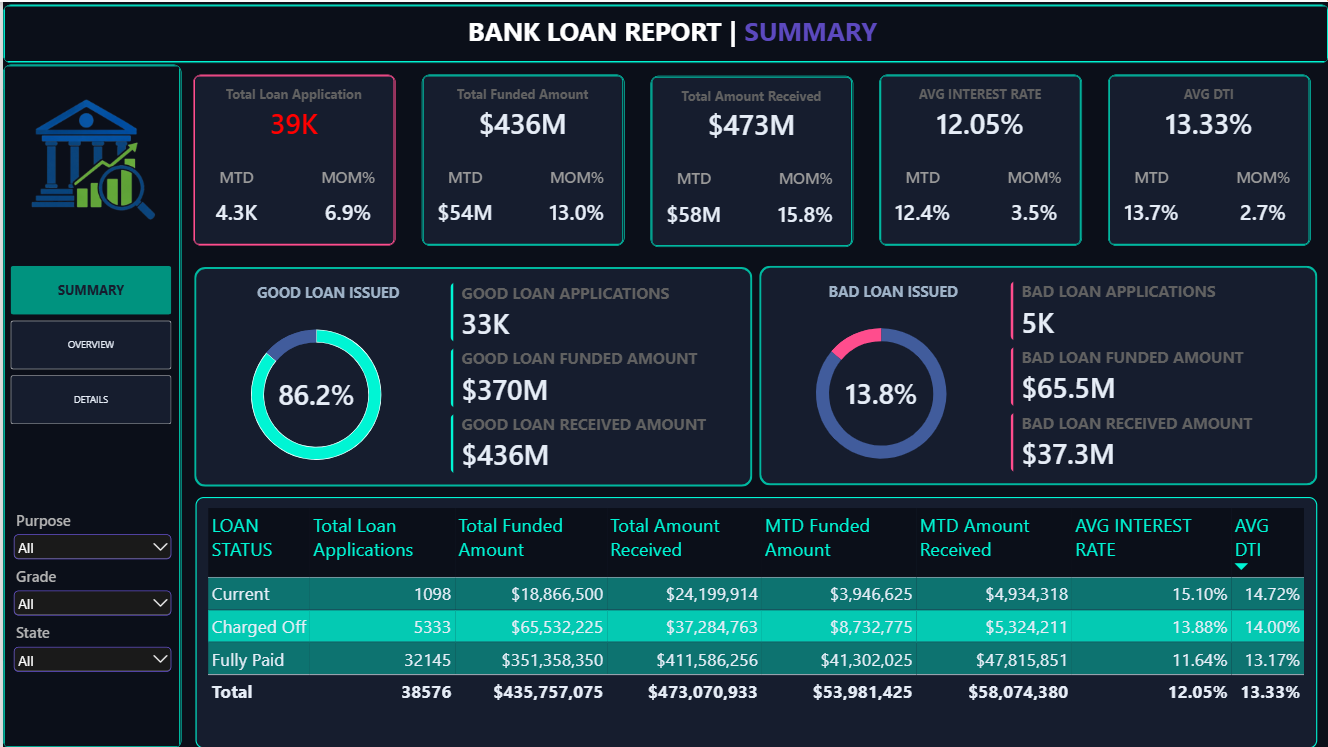

Layout of this report page (visuals, bound fields, positions):
{"tool":"powerbi","page":{"name":"SUMMARY","canvas":[1920,1080],"ordinal":0},"visuals":[{"type":"group","id":"g1","title":"Group 4","box":[0,90,258,990],"z":0},{"type":"shape","box":[0,90,258,990],"z":0,"group":"g1"},{"type":"shape","box":[0,4,1920,85],"z":1000},{"type":"textbox","box":[673.3,16.7,623.3,51.7],"z":2000},{"type":"group","id":"g2","title":"Group 1","box":[275,105,293.3,248.3],"z":3000},{"type":"shape","box":[275,105,293.3,248.3],"z":3000,"group":"g2"},{"type":"shape","box":[606.2,105,293.3,248.3],"z":3000,"group":"g3"},{"type":"shape","box":[1268.8,105,293.3,248.3],"z":3000,"group":"g5"},{"type":"shape","box":[1600,105,293.3,248.3],"z":3000,"group":"g6"},{"type":"shape","box":[937.5,106.7,293.3,248.3],"z":3000,"group":"g4"},{"type":"group","id":"g3","title":"Group 1","box":[606.2,105,293.3,248.3],"z":4000},{"type":"group","id":"g4","title":"Group 1","box":[937.5,106.7,293.3,248.3],"z":5000},{"type":"cardVisual","fields":{"Data":["financial_loan_table.TOTAL LOAN APPLICATION"]},"box":[280,118.3,281.7,88.3],"z":5000,"group":"g2"},{"type":"cardVisual","fields":{"Data":["financial_loan_table.Total Funded Amount"]},"box":[611.2,118.3,281.7,88.3],"z":5000,"group":"g3"},{"type":"cardVisual","fields":{"Data":["financial_loan_table.AVG INT RATE"]},"box":[1273.8,118.3,281.7,88.3],"z":5000,"group":"g5"},{"type":"cardVisual","fields":{"Data":["financial_loan_table.AVG DTI"]},"box":[1605,118.3,281.7,88.3],"z":5000,"group":"g6"},{"type":"cardVisual","fields":{"Data":["financial_loan_table.Total Amount Received"]},"box":[942.5,120,281.7,88.3],"z":5000,"group":"g4"},{"type":"group","id":"g5","title":"Group 1","box":[1268.8,105,293.3,248.3],"z":6000},{"type":"cardVisual","title":"MTD","fields":{"Data":["financial_loan_table.MTD LOAN APPLICATIONS"]},"box":[280,230,115,95],"z":6000,"group":"g2"},{"type":"cardVisual","title":"MTD","fields":{"Data":["financial_loan_table.MTD Funded Amount"]},"box":[611.2,230,115,95],"z":6000,"group":"g3"},{"type":"cardVisual","title":"MTD","fields":{"Data":["financial_loan_table.MTD AVG INT RATE"]},"box":[1273.8,230,115,95],"z":6000,"group":"g5"},{"type":"cardVisual","title":"MTD","fields":{"Data":["financial_loan_table.MTD AVG DTI"]},"box":[1605,230,115,95],"z":6000,"group":"g6"},{"type":"cardVisual","title":"MTD","fields":{"Data":["financial_loan_table.MTD Payment"]},"box":[942.5,231.7,115,95],"z":6000,"group":"g4"},{"type":"group","id":"g6","title":"Group 1","box":[1600,105,293.3,248.3],"z":7000},{"type":"cardVisual","title":"MOM%","fields":{"Data":["financial_loan_table.MoM Loan Applications"]},"box":[438.3,230,123.3,95],"z":7000,"group":"g2"},{"type":"cardVisual","title":"MOM%","fields":{"Data":["financial_loan_table.MoM Funded Amount"]},"box":[769.5,230,123.3,95],"z":7000,"group":"g3"},{"type":"cardVisual","title":"MOM%","fields":{"Data":["financial_loan_table.MoM AVG INT RATE"]},"box":[1432.1,230,123.3,95],"z":7000,"group":"g5"},{"type":"cardVisual","title":"MOM%","fields":{"Data":["financial_loan_table.MoM AVG DTI"]},"box":[1763.3,230,123.3,95],"z":7000,"group":"g6"},{"type":"cardVisual","title":"MOM%","fields":{"Data":["financial_loan_table.MoM Payment"]},"box":[1100.8,231.7,123.3,95],"z":7000,"group":"g4"},{"type":"shape","box":[1094,382,808,318],"z":8000,"group":"g8"},{"type":"group","id":"g7","title":"Group 2","box":[276,384,808,318],"z":8000},{"type":"shape","box":[276,384,808,318],"z":8000,"group":"g7"},{"type":"group","id":"g8","title":"Group 2","box":[1094,382,808,318],"z":9000},{"type":"cardVisual","fields":{"Data":["financial_loan_table.GOOD LOAN APPLICATIONS","financial_loan_table.GOOD LOAN FUNDED AMOUNT","financial_loan_table.GOOD LOAN RECEIVED AMOUNT"]},"box":[648,406,436,278],"z":10000},{"type":"donutChart","fields":{"Category":["financial_loan_table.GOOD vs BAD LOAN"],"Y":["financial_loan_table.TOTAL LOAN APPLICATION"]},"box":[1118,434,306,266],"z":10000,"group":"g8"},{"type":"donutChart","fields":{"Category":["financial_loan_table.GOOD vs BAD LOAN"],"Y":["financial_loan_table.TOTAL LOAN APPLICATION"]},"box":[300,436,306,266],"z":10000,"group":"g7"},{"type":"cardVisual","fields":{"Data":["financial_loan_table.BAD LOAN APPLICATIONS","financial_loan_table.BAD LOAN FUNDED AMOUNT","financial_loan_table.BAD LOAN RECEIVED AMOUNT"]},"box":[1458,404,436,278],"z":11000},{"type":"textbox","box":[1170,404,236,44],"z":12000,"group":"g8"},{"type":"textbox","box":[352,406,236,44],"z":12000,"group":"g7"},{"type":"tableEx","fields":{"Values":["financial_loan_table.loan_status","financial_loan_table.TOTAL LOAN APPLICATION","financial_loan_table.Total Funded Amount","financial_loan_table.Total Amount Received","financial_loan_table.MTD Funded Amount","financial_loan_table.MTD Payment","financial_loan_table.AVG INTEREST RATE","financial_loan_table.AVG DTI"]},"box":[278,716,1624,364],"z":12000},{"type":"slicer","fields":{"Values":["financial_loan_table.purpose"]},"box":[10,734,238,82],"z":13000},{"type":"slicer","fields":{"Values":["financial_loan_table.address_state"]},"box":[10,898,238,82],"z":14000},{"type":"slicer","fields":{"Values":["financial_loan_table.grade"]},"box":[10,816,238,82],"z":15000},{"type":"image","box":[16.3,112.2,222.6,233.4],"z":15001},{"type":"pageNavigator","box":[10.9,381.8,233.4,229.8],"z":15002}]}

Visuals, with their boxes in screenshot pixels (x1, y1, x2, y2), scaled from the page's 1920x1080 canvas onto the 1328x747 screenshot:
"Group 4" group: (x1=0, y1=62, x2=178, y2=746)
shape: (x1=0, y1=62, x2=178, y2=746)
shape: (x1=0, y1=3, x2=1327, y2=62)
textbox: (x1=466, y1=12, x2=897, y2=47)
"Group 1" group: (x1=190, y1=73, x2=393, y2=244)
shape: (x1=190, y1=73, x2=393, y2=244)
shape: (x1=419, y1=73, x2=622, y2=244)
shape: (x1=878, y1=73, x2=1080, y2=244)
shape: (x1=1107, y1=73, x2=1310, y2=244)
shape: (x1=648, y1=74, x2=851, y2=246)
"Group 1" group: (x1=419, y1=73, x2=622, y2=244)
"Group 1" group: (x1=648, y1=74, x2=851, y2=246)
cardVisual - financial_loan_table.TOTAL LOAN APPLICATION: (x1=194, y1=82, x2=389, y2=143)
cardVisual - financial_loan_table.Total Funded Amount: (x1=423, y1=82, x2=618, y2=143)
cardVisual - financial_loan_table.AVG INT RATE: (x1=881, y1=82, x2=1076, y2=143)
cardVisual - financial_loan_table.AVG DTI: (x1=1110, y1=82, x2=1305, y2=143)
cardVisual - financial_loan_table.Total Amount Received: (x1=652, y1=83, x2=847, y2=144)
"Group 1" group: (x1=878, y1=73, x2=1080, y2=244)
"MTD" cardVisual: (x1=194, y1=159, x2=273, y2=225)
"MTD" cardVisual: (x1=423, y1=159, x2=502, y2=225)
"MTD" cardVisual: (x1=881, y1=159, x2=961, y2=225)
"MTD" cardVisual: (x1=1110, y1=159, x2=1190, y2=225)
"MTD" cardVisual: (x1=652, y1=160, x2=731, y2=226)
"Group 1" group: (x1=1107, y1=73, x2=1310, y2=244)
"MOM%" cardVisual: (x1=303, y1=159, x2=388, y2=225)
"MOM%" cardVisual: (x1=532, y1=159, x2=618, y2=225)
"MOM%" cardVisual: (x1=991, y1=159, x2=1076, y2=225)
"MOM%" cardVisual: (x1=1220, y1=159, x2=1305, y2=225)
"MOM%" cardVisual: (x1=761, y1=160, x2=847, y2=226)
shape: (x1=757, y1=264, x2=1316, y2=484)
"Group 2" group: (x1=191, y1=266, x2=750, y2=486)
shape: (x1=191, y1=266, x2=750, y2=486)
"Group 2" group: (x1=757, y1=264, x2=1316, y2=484)
cardVisual - financial_loan_table.GOOD LOAN APPLICATIONS x financial_loan_table.GOOD LOAN FUNDED AMOUNT: (x1=448, y1=281, x2=750, y2=473)
donutChart - financial_loan_table.GOOD vs BAD LOAN x financial_loan_table.TOTAL LOAN APPLICATION: (x1=773, y1=300, x2=985, y2=484)
donutChart - financial_loan_table.GOOD vs BAD LOAN x financial_loan_table.TOTAL LOAN APPLICATION: (x1=208, y1=302, x2=419, y2=486)
cardVisual - financial_loan_table.BAD LOAN APPLICATIONS x financial_loan_table.BAD LOAN FUNDED AMOUNT: (x1=1008, y1=279, x2=1310, y2=472)
textbox: (x1=809, y1=279, x2=972, y2=310)
textbox: (x1=243, y1=281, x2=407, y2=311)
tableEx - financial_loan_table.loan_status x financial_loan_table.TOTAL LOAN APPLICATION: (x1=192, y1=495, x2=1316, y2=746)
slicer - financial_loan_table.purpose: (x1=7, y1=508, x2=172, y2=564)
slicer - financial_loan_table.address_state: (x1=7, y1=621, x2=172, y2=678)
slicer - financial_loan_table.grade: (x1=7, y1=564, x2=172, y2=621)
image: (x1=11, y1=78, x2=165, y2=239)
pageNavigator: (x1=8, y1=264, x2=169, y2=423)
